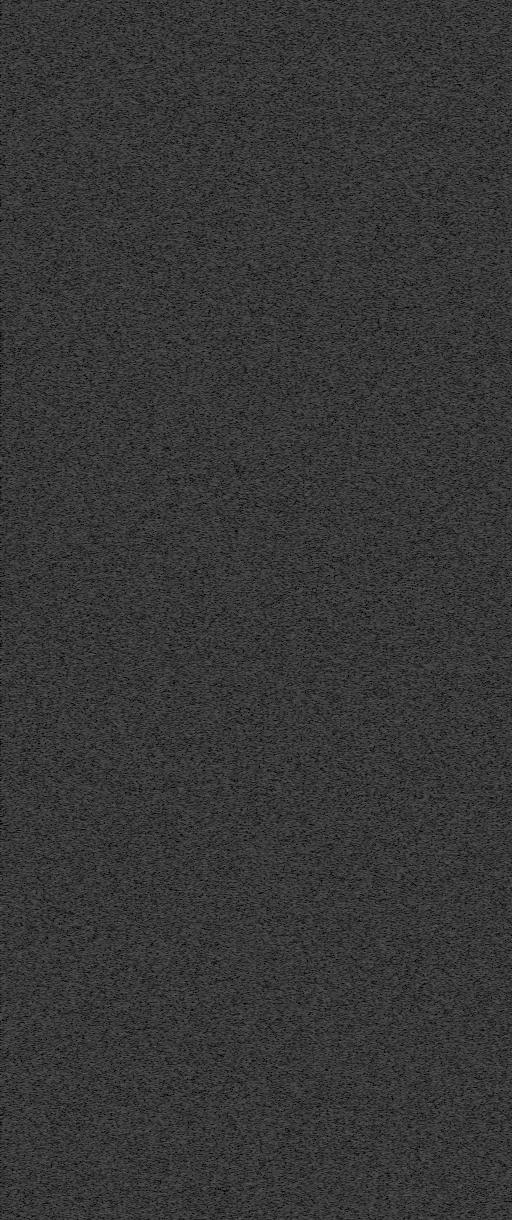wv_am: (19, 1, 25, 1220)
wv_cw: (421, 1, 431, 1220), (67, 1, 76, 1220), (71, 1, 76, 1220)
wv_wbfm: (98, 0, 137, 1220), (210, 0, 249, 1220), (150, 0, 188, 1220)
